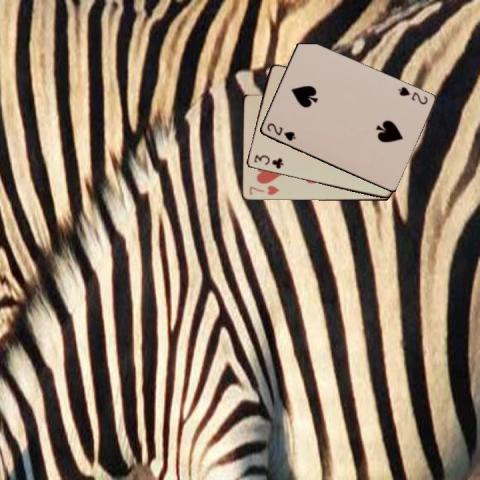2s: (263, 120, 297, 143), (395, 84, 429, 106)
3c: (250, 152, 284, 170)
7h: (246, 182, 281, 196)
